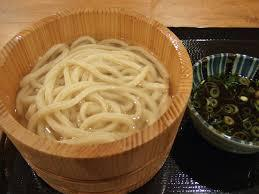kamaage: (1, 4, 203, 191)
